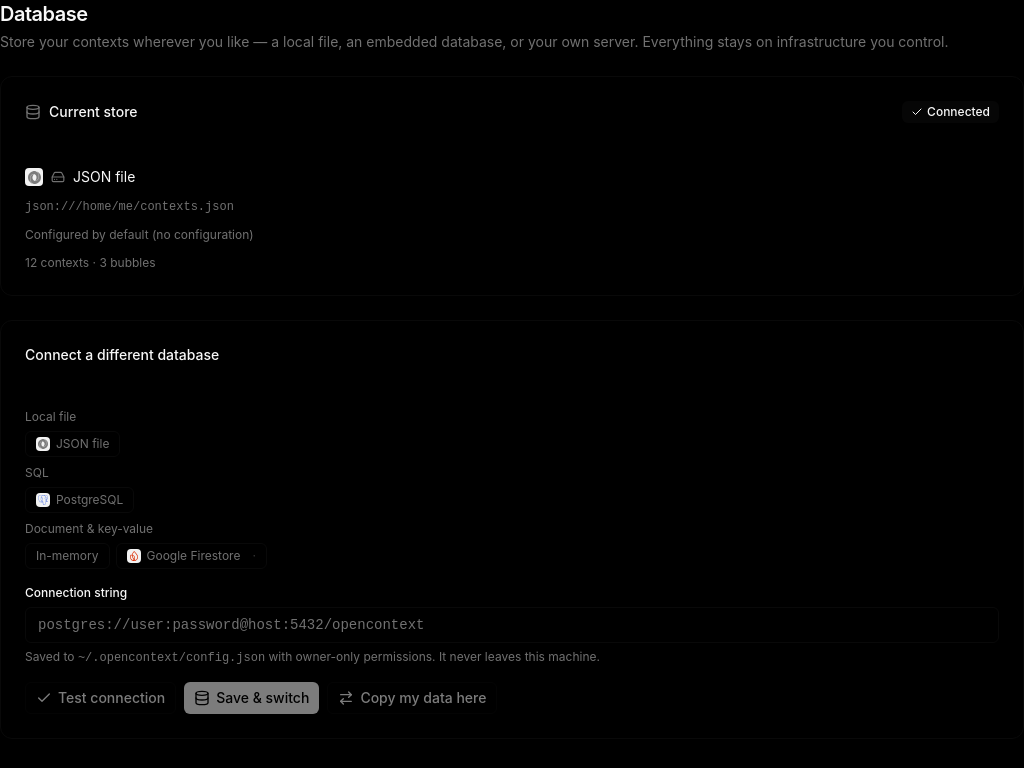
it: DatabaseSettings › tells the user what to install when a driver is missing
The image size is (1024, 768).
What coordinates should you click on to do the following:
click the button "Google Firestore ·"
I would click on:
 (191, 556)
Its box is x1=116 y1=543 x2=267 y2=569.
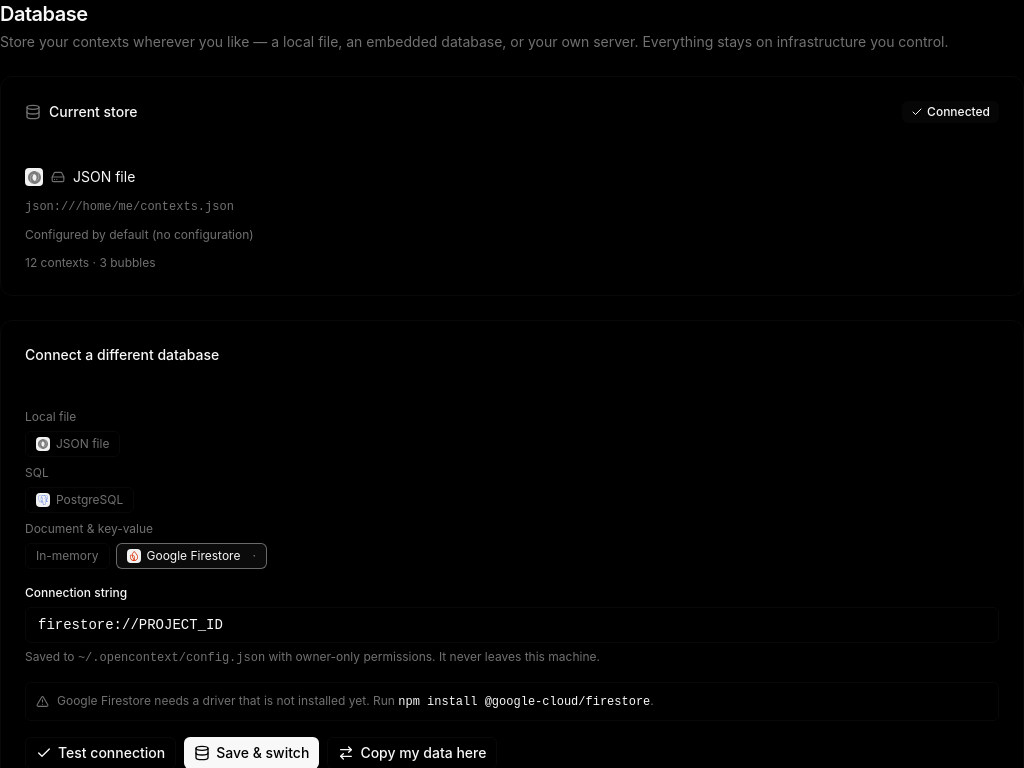
Now the text "npm install @google-cloud/firestore" is shown, box x1=398 y1=695 x2=650 y2=709
